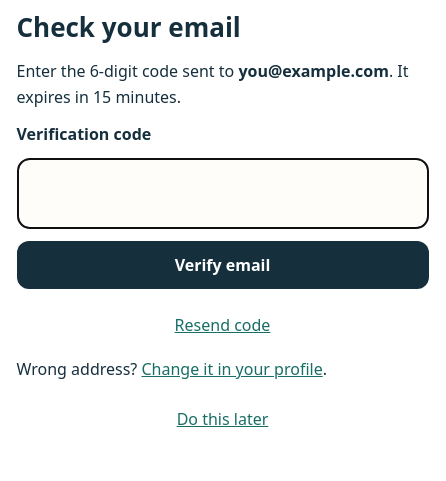
wrong and expired codes show the API message without unlocking the account
Type "123456" into the field labelled "Verification code".
click(222, 194); type("123456")  # box [16,158,428,229]
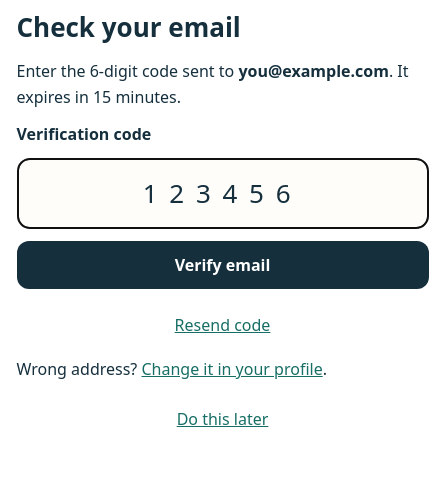
Click the button "Verify email".
click(222, 265)  # box [16,241,428,289]
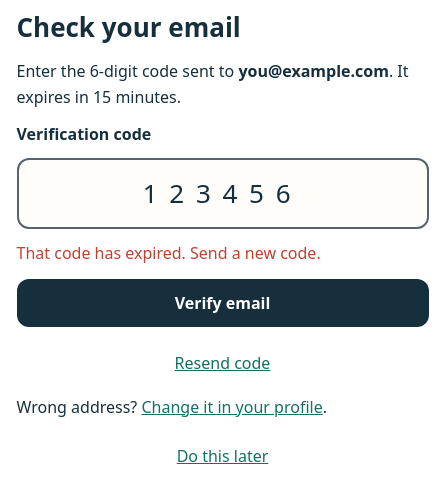
Expected: the message shows "That code has expired", [16,242,321,264]
